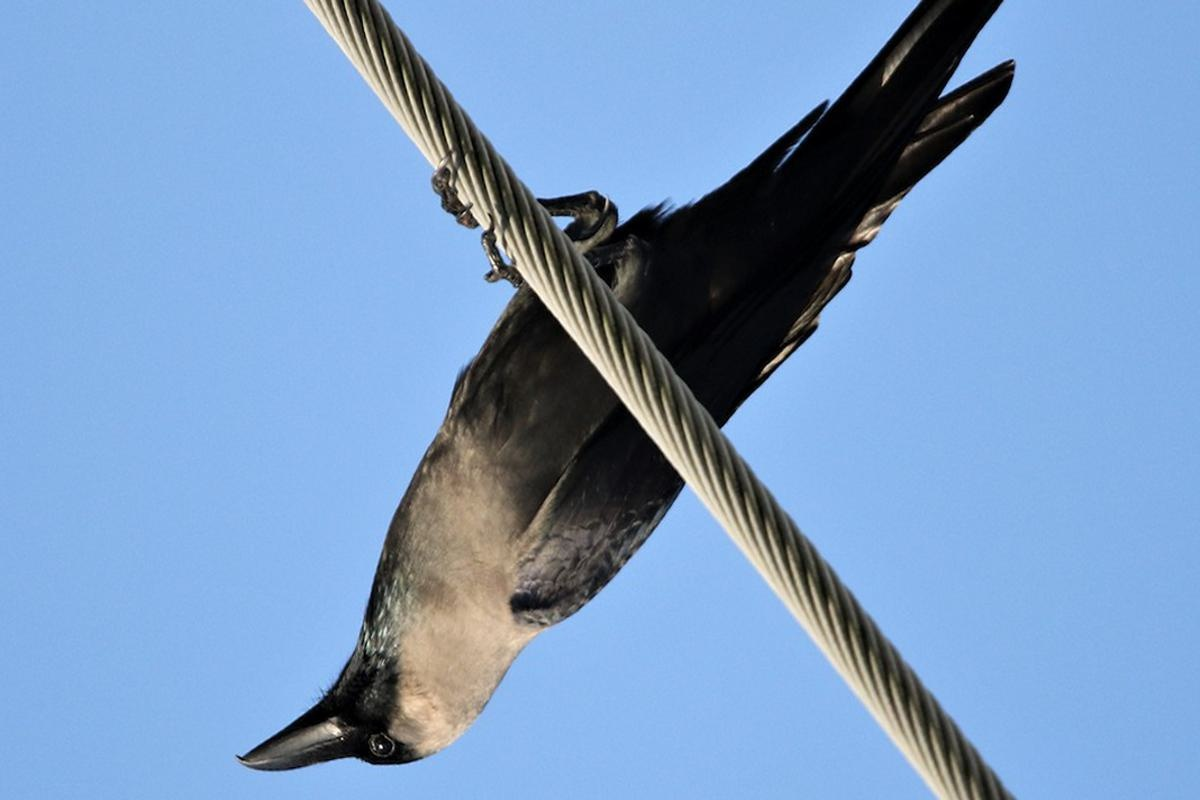crow: (224, 1, 1043, 778)
